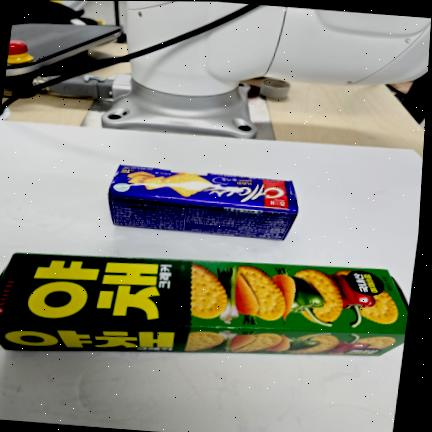cracker_ace: (108, 164, 297, 240)
cracker_vege: (0, 253, 409, 356)
